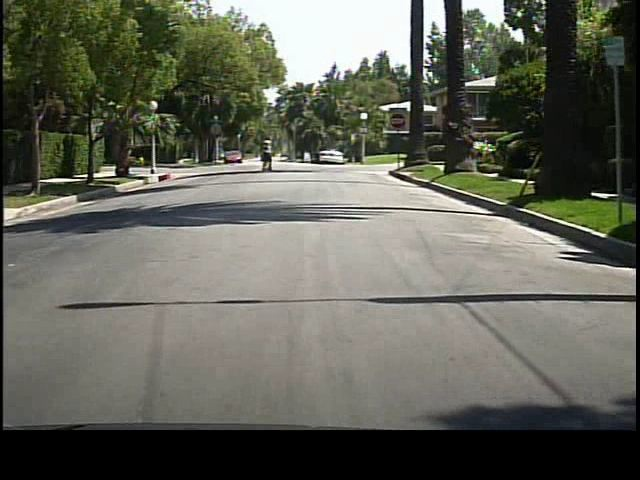person: (260, 135, 276, 172)
